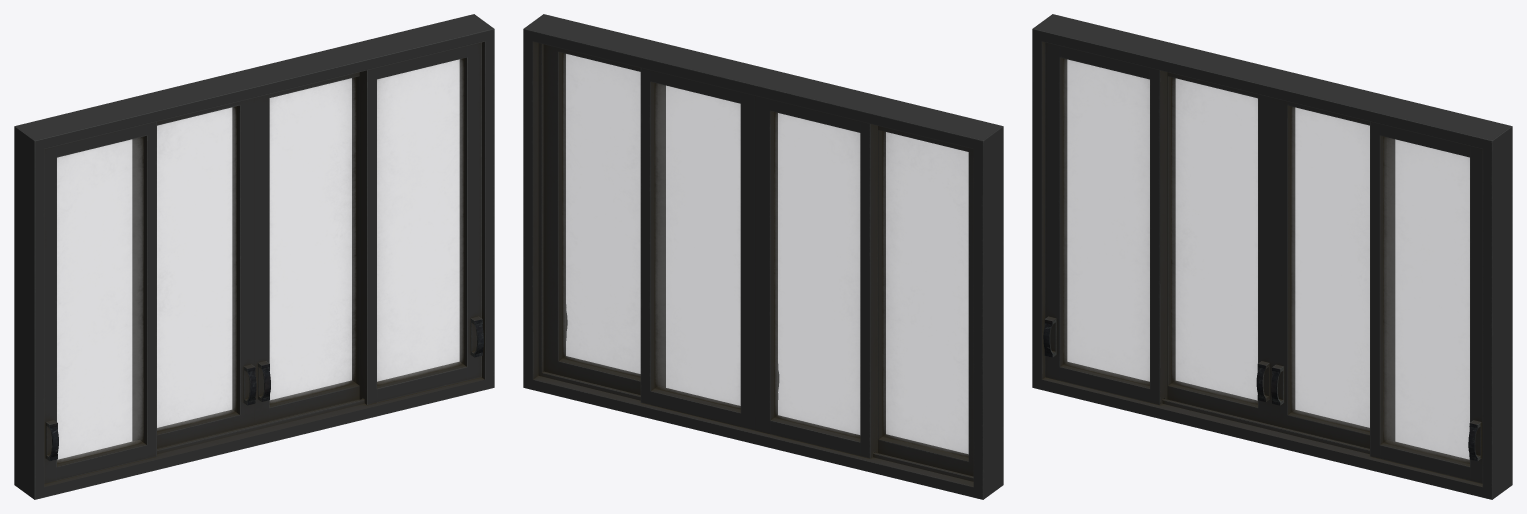
File: window.glb
3 views of the same model, side by side, from view 1: azimuth 30°, elevation 25°; view 2: azimuth 150°, elevation 25°; view 3: azimuth 330°, elevation 25° (orthographic).
Parts seen in each view (by area): view 1: f, 01_glass_0, 02_glass_0, 04_glass_0, 03_glass_0, 01_f_0, 04_f_0, 03_f_0, 02_f_0; view 2: f, 04_glass_0, 03_glass_0, 02_glass_0, 01_glass_0, 03_f_0, 02_f_0, 01_f_0, 04_f_0; view 3: f, 04_glass_0, 03_glass_0, 01_glass_0, 02_glass_0, 04_f_0, 01_f_0, 02_f_0, 03_f_0.
Boxes of the visible parts, left/top/right/bottom form: f: left=14, top=14, right=494, bottom=499; 01_glass_0: left=377, top=58, right=463, bottom=385; 02_glass_0: left=270, top=77, right=356, bottom=404; 04_glass_0: left=57, top=137, right=143, bottom=463; 03_glass_0: left=157, top=106, right=236, bottom=431; 01_f_0: left=359, top=42, right=483, bottom=404; 04_f_0: left=44, top=121, right=156, bottom=483; 03_f_0: left=132, top=98, right=256, bottom=448; 02_f_0: left=254, top=72, right=359, bottom=424; f: left=523, top=14, right=1003, bottom=499; 04_glass_0: left=882, top=131, right=968, bottom=457; 03_glass_0: left=774, top=112, right=859, bottom=438; 02_glass_0: left=655, top=83, right=740, bottom=409; 01_glass_0: left=562, top=53, right=640, bottom=377; 03_f_0: left=755, top=96, right=877, bottom=458; 02_f_0: left=640, top=68, right=755, bottom=430; 01_f_0: left=543, top=44, right=665, bottom=394; 04_f_0: left=878, top=126, right=973, bottom=476; f: left=1032, top=14, right=1512, bottom=499; 04_glass_0: left=1063, top=58, right=1149, bottom=385; 03_glass_0: left=1171, top=77, right=1257, bottom=404; 01_glass_0: left=1383, top=136, right=1469, bottom=463; 02_glass_0: left=1291, top=106, right=1369, bottom=431; 04_f_0: left=1043, top=42, right=1167, bottom=404; 01_f_0: left=1370, top=121, right=1482, bottom=483; 02_f_0: left=1271, top=98, right=1395, bottom=448; 03_f_0: left=1167, top=72, right=1272, bottom=424.
Bounding box in the file's own units: 3.44 × 2.56 × 0.3092.
2 materials, 2 textured.
